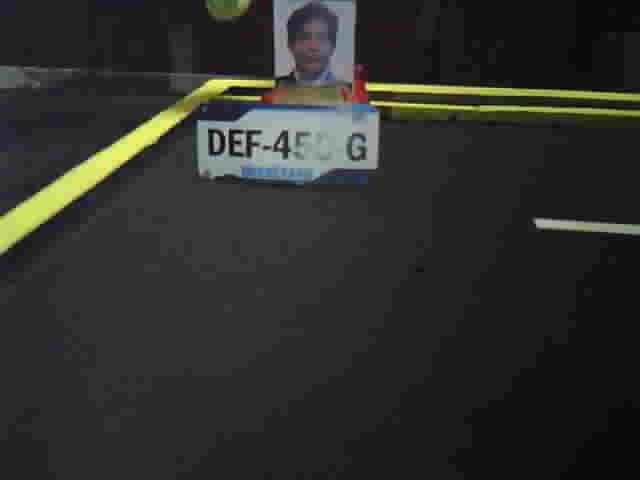PLACA: (195, 101, 382, 189)
ROSTRO: (274, 1, 354, 89)
